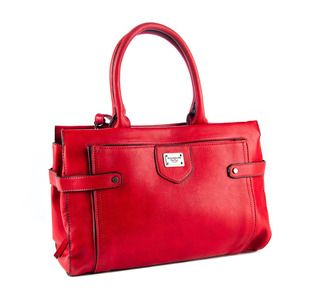cartera: (46, 21, 274, 278)
